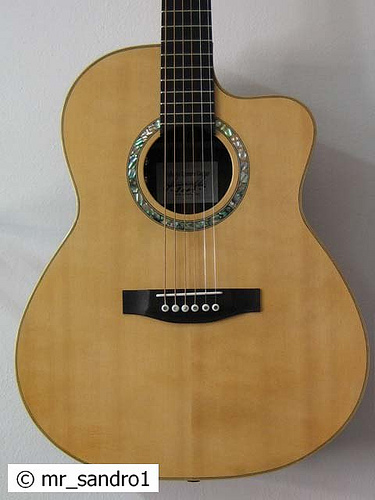guitar: (16, 1, 369, 480)
